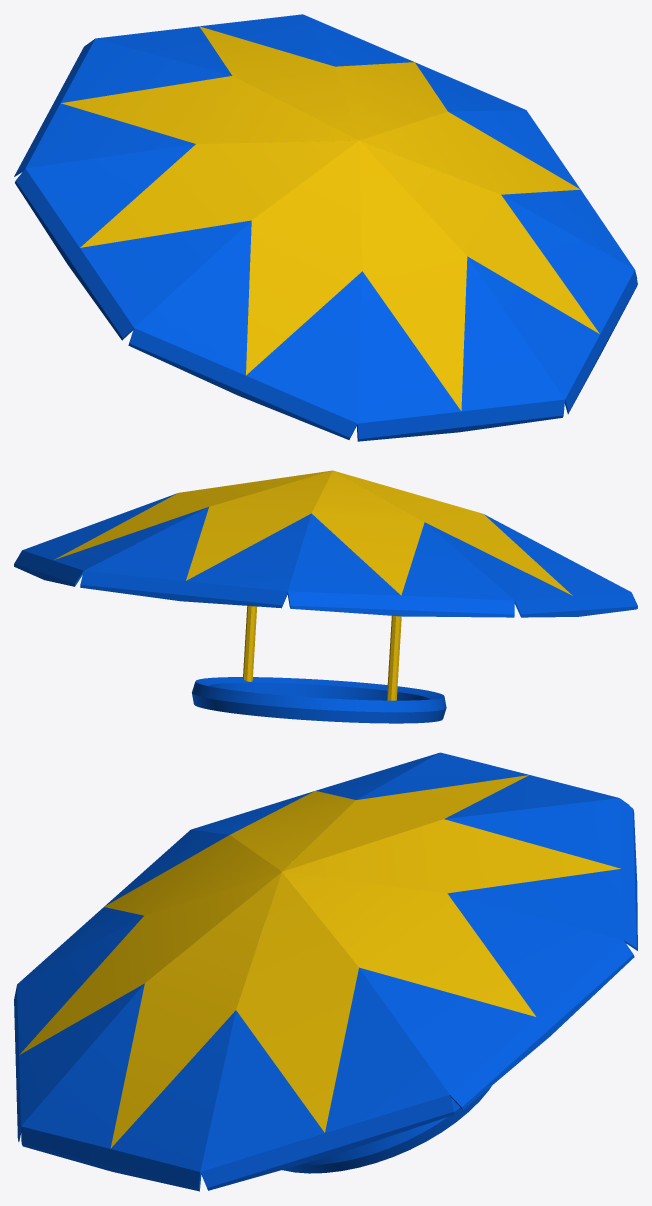
File: umbrellahat_basic.glb
3 renders of one model, top to bottom at view 1: azimuth 30°, elevation 25°; view 2: azimuth 150°, elevation 25°; view 3: azimuth 270°, elevation 25°, orthographic. The views are drawn at different scales.
Parts seen in each view (by area): view 1: 0.137, 2.044; view 2: 0.137, 2.044; view 3: 0.137, 2.044.
Part boxes in pixels (<box>): 0.137: <box>14,14,637,441</box>; 2.044: <box>61,26,599,410</box>; 0.137: <box>14,493,637,723</box>; 2.044: <box>54,470,572,700</box>; 0.137: <box>14,752,637,1191</box>; 2.044: <box>19,775,620,1148</box>.
Size of the model in its own units: 1.16 by 0.5855 by 1.1.
